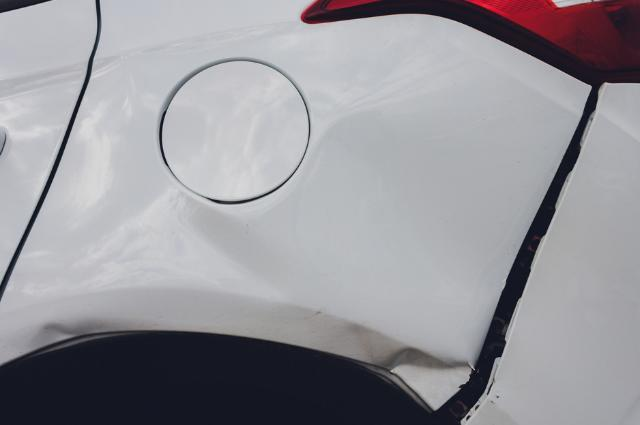Fender: (21, 250, 480, 415)
